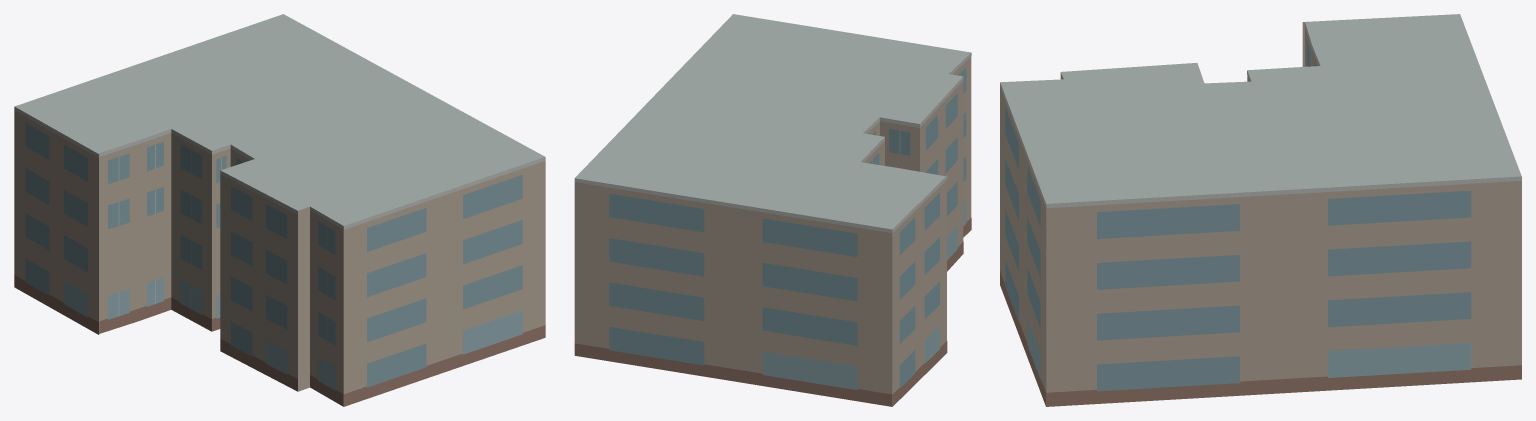
Rendered from survey-upis-32456751.glb.
3 views of the same model, side by side, from view 1: azimuth 30°, elevation 25°; view 2: azimuth 150°, elevation 25°; view 3: azimuth 270°, elevation 25° (orthographic). The views are drawn at different scales.
Visible parts, largest first — view 1: survey-upis-32456751.tmp; view 2: survey-upis-32456751.tmp; view 3: survey-upis-32456751.tmp.
Boxes of the visible parts, x1=… form: survey-upis-32456751.tmp: x1=14, y1=14, x2=545, y2=406; survey-upis-32456751.tmp: x1=574, y1=14, x2=971, y2=406; survey-upis-32456751.tmp: x1=1000, y1=14, x2=1521, y2=406.
Bounding box in the file's own units: 22.88 × 11.4 × 26.57.
